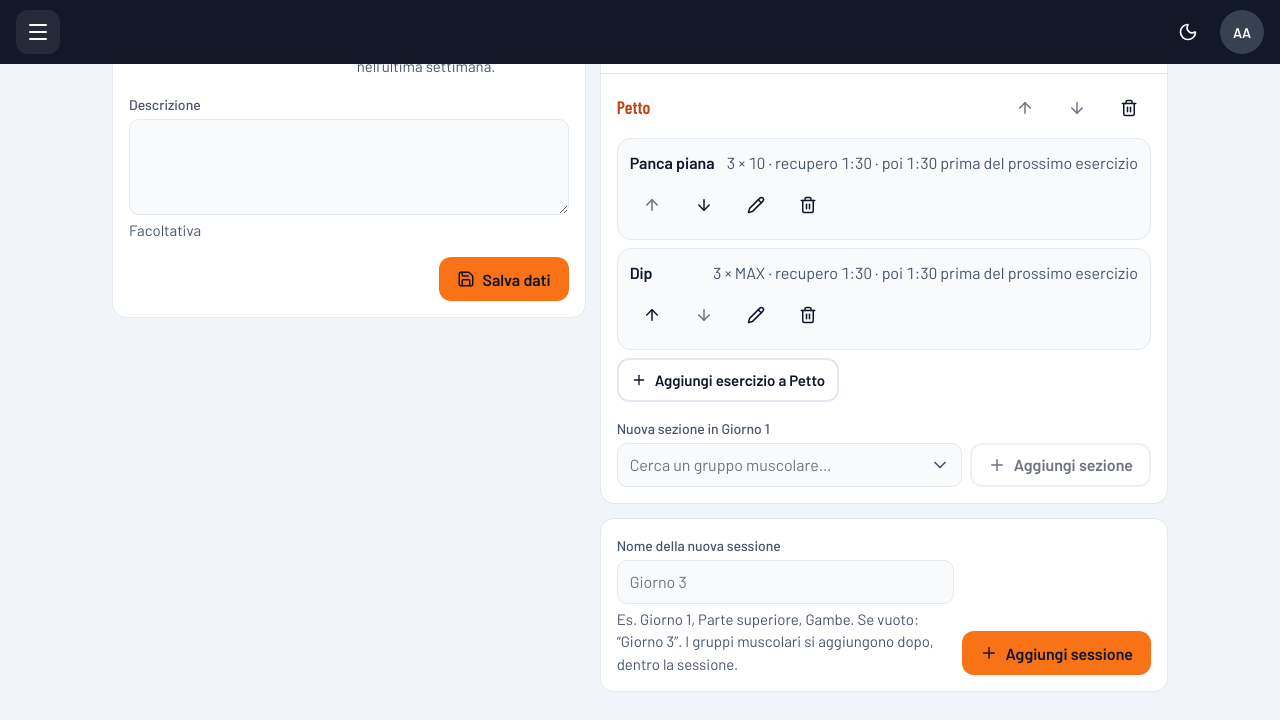
Scenario: plan editor › validates the configuration on the client
(page scrolled)
Click the button "Aggiungi esercizio a Petto" at (728, 380), box [617, 358, 839, 402]
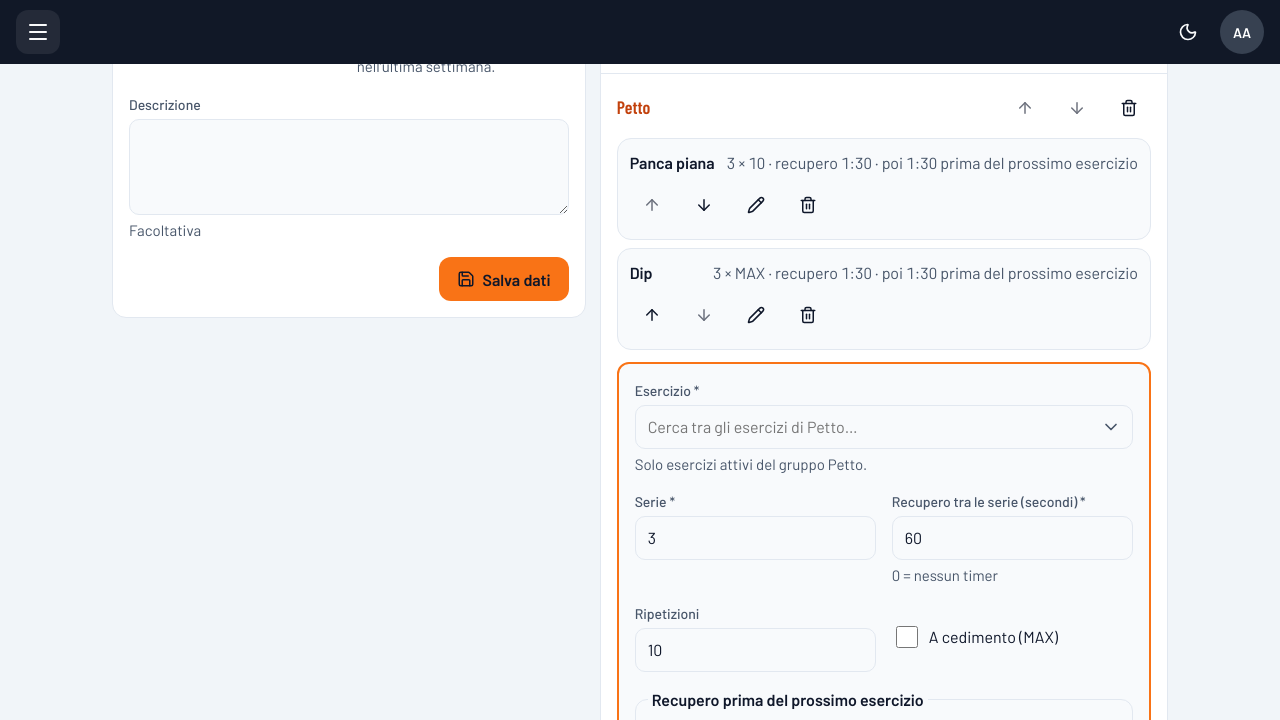
Replace the text in the number field labelled "Serie *" with "25" at (755, 538), box [635, 516, 876, 560]
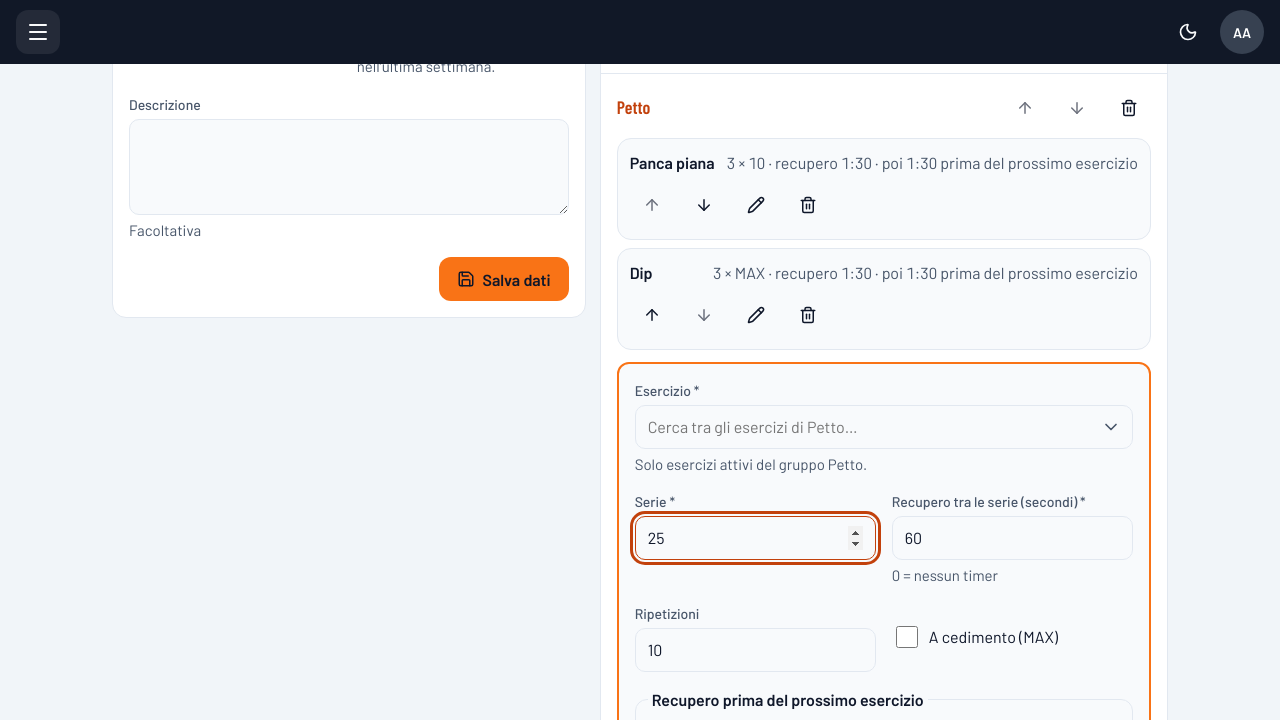
Replace the text in the number field labelled "Recupero tra le serie (secondi) *" with "700" at (1012, 538), box [892, 516, 1133, 560]
(page scrolled)
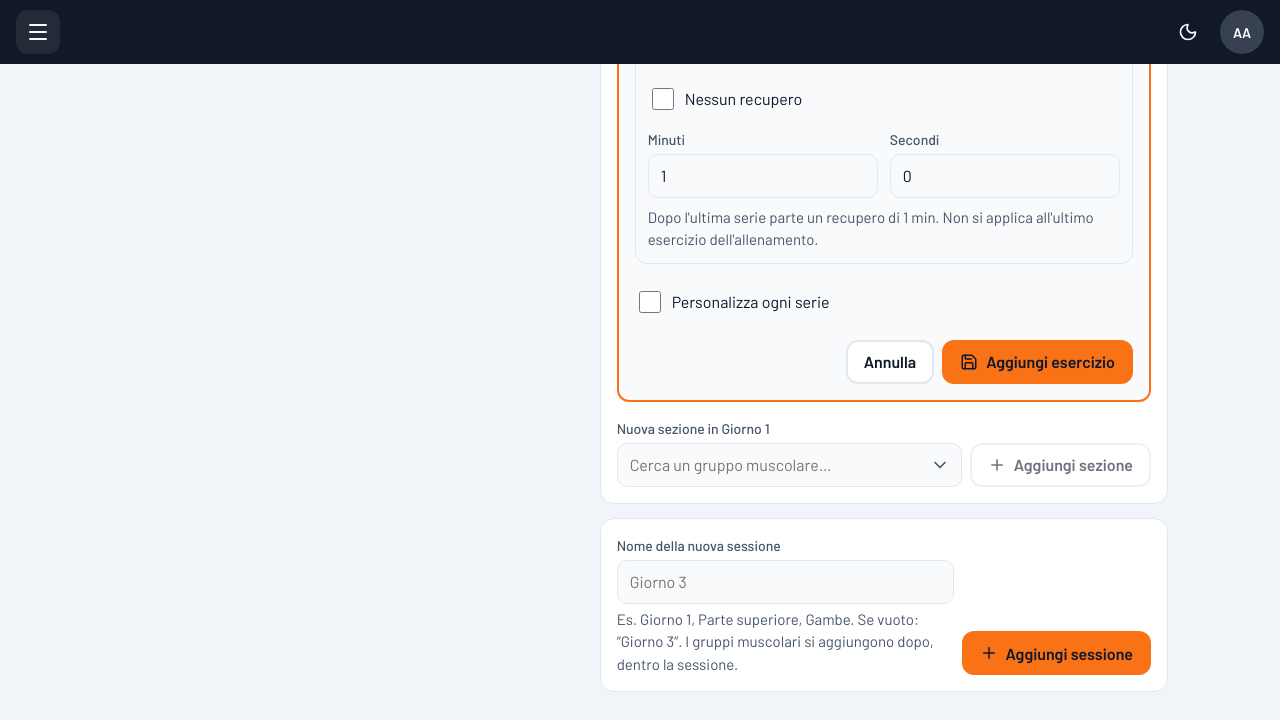
Click the button "Aggiungi esercizio" at (1038, 362), box [942, 340, 1133, 384]
(page scrolled)
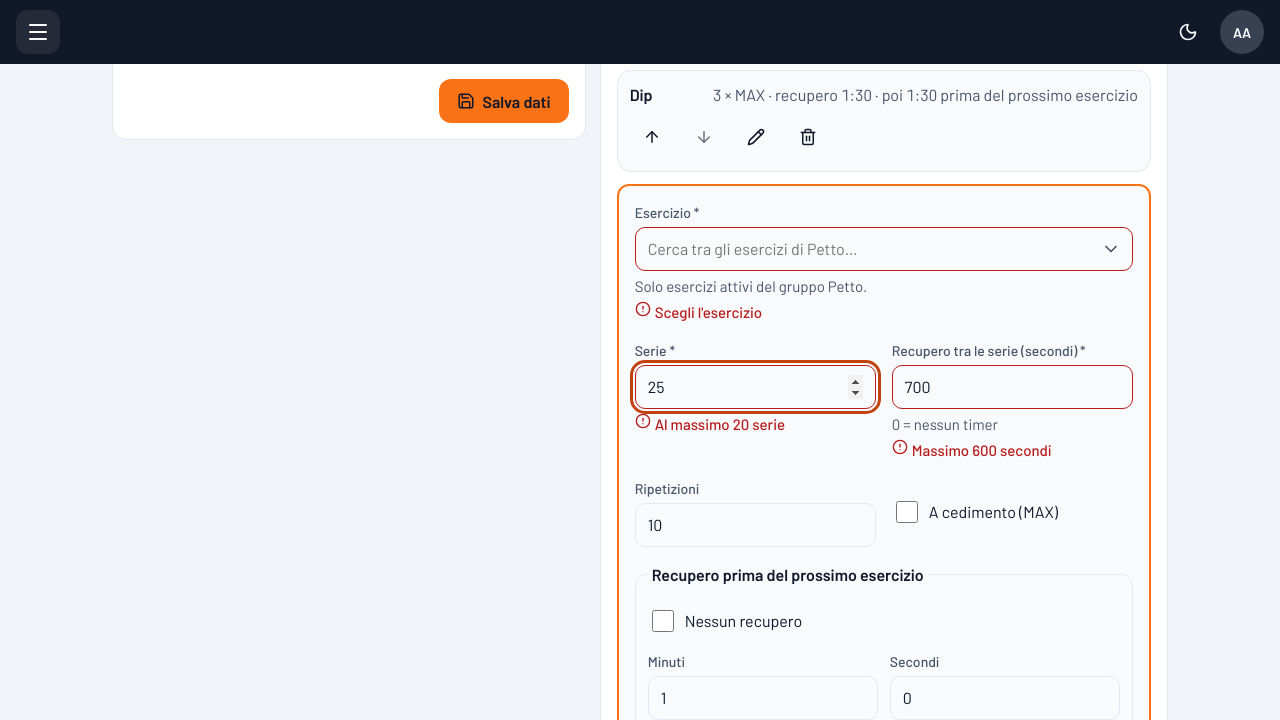
Expected: the text "Scegli l'esercizio" is shown, [635, 301, 762, 321]
Expected: the text "Al massimo 20 serie" is shown, [635, 413, 785, 433]
Expected: the text "Massimo 600 secondi" is shown, [892, 439, 1052, 459]
